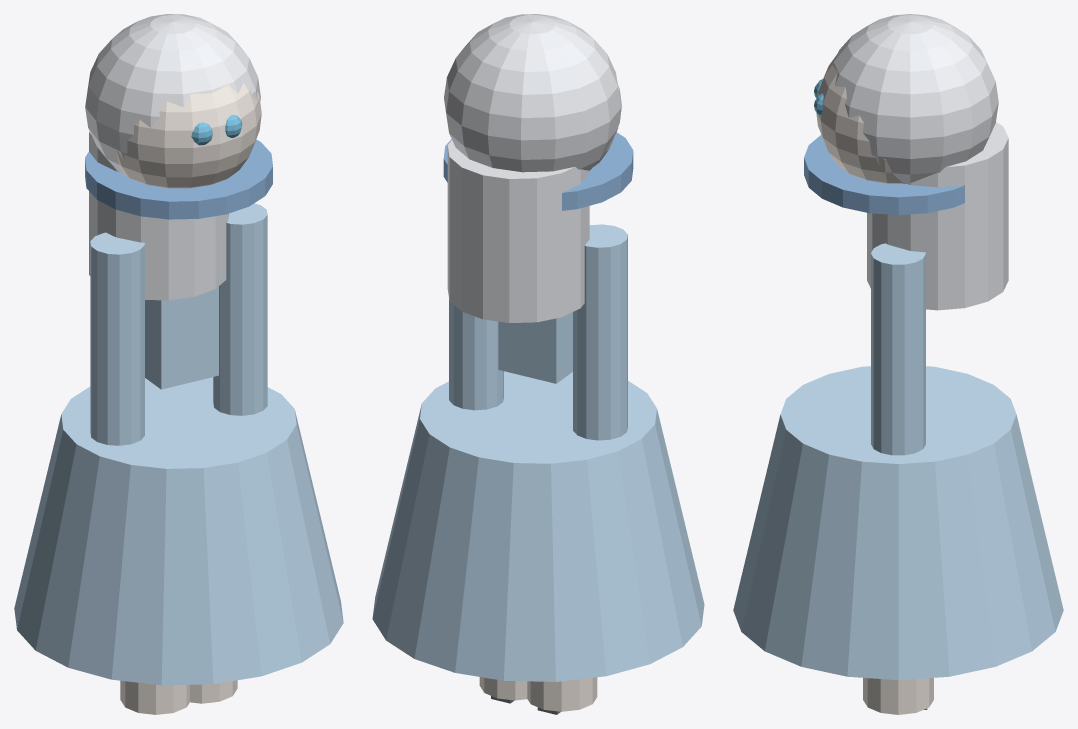
The model's file is Lirael.fbx.
3 views of the same model, side by side, from view 1: azimuth 30°, elevation 25°; view 2: azimuth 150°, elevation 25°; view 3: azimuth 270°, elevation 25° (orthographic).
Visible parts, largest first — view 1: Lirael; view 2: Lirael; view 3: Lirael.
Part boxes in pixels (x1,y1,x2,y2): Lirael: (14, 14, 343, 714); Lirael: (372, 14, 704, 714); Lirael: (733, 14, 1063, 714).
Bounding box in the file's own units: 150 × 335 × 150.
